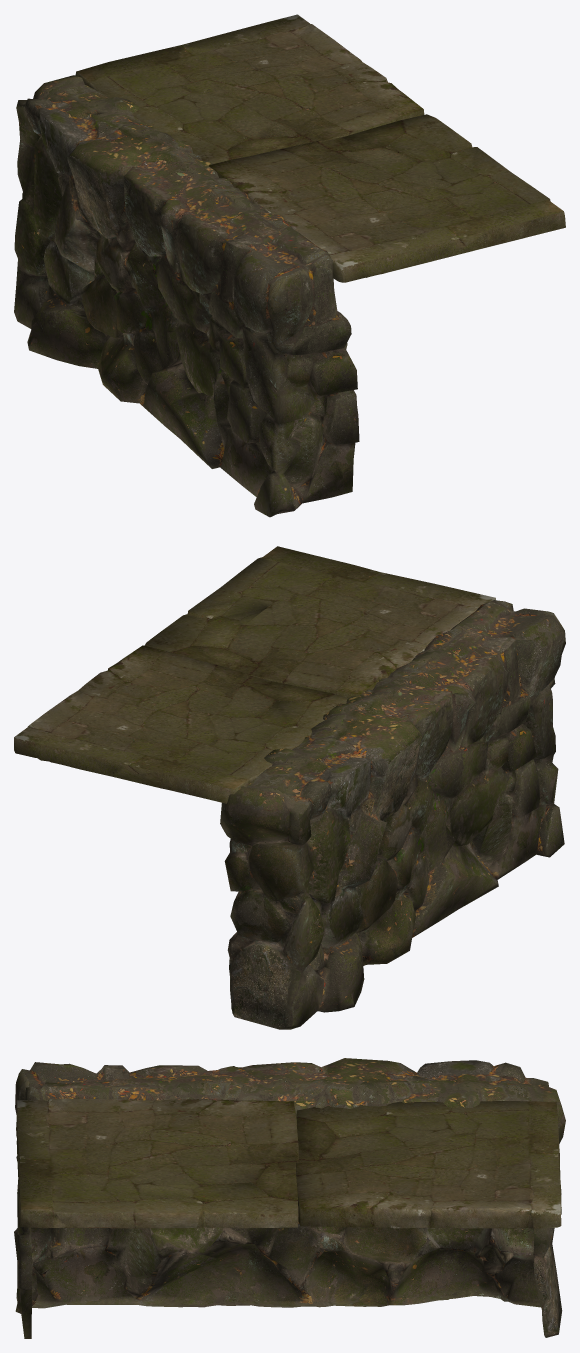
The model's file is wall_mossy_Lod2.fbx.
3 views of the same model, one above another, from view 1: azimuth 30°, elevation 25°; view 2: azimuth 150°, elevation 25°; view 3: azimuth 270°, elevation 25° (orthographic). The views are drawn at different scales.
Visible parts, largest first — view 1: Aset_historical_feudal_japan_L_ulldfgb_LOD0; view 2: Aset_historical_feudal_japan_L_ulldfgb_LOD0; view 3: Aset_historical_feudal_japan_L_ulldfgb_LOD0.
Boxes of the visible parts, x1,y1,x2,y2 form: Aset_historical_feudal_japan_L_ulldfgb_LOD0: (14, 14, 565, 517); Aset_historical_feudal_japan_L_ulldfgb_LOD0: (14, 546, 565, 1029); Aset_historical_feudal_japan_L_ulldfgb_LOD0: (14, 1058, 565, 1338).
Bounding box in the file's own units: 110 × 83.26 × 167.
